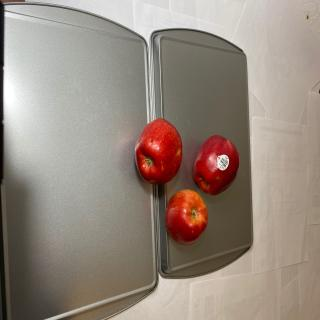Apple: (134, 118, 182, 185), (193, 135, 240, 195), (164, 189, 208, 245)
